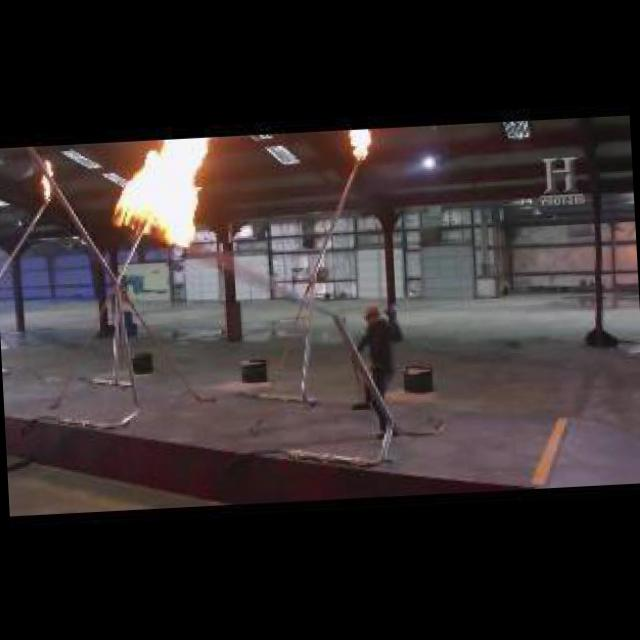fire: (100, 139, 220, 251), (342, 136, 374, 163), (38, 158, 56, 200)
